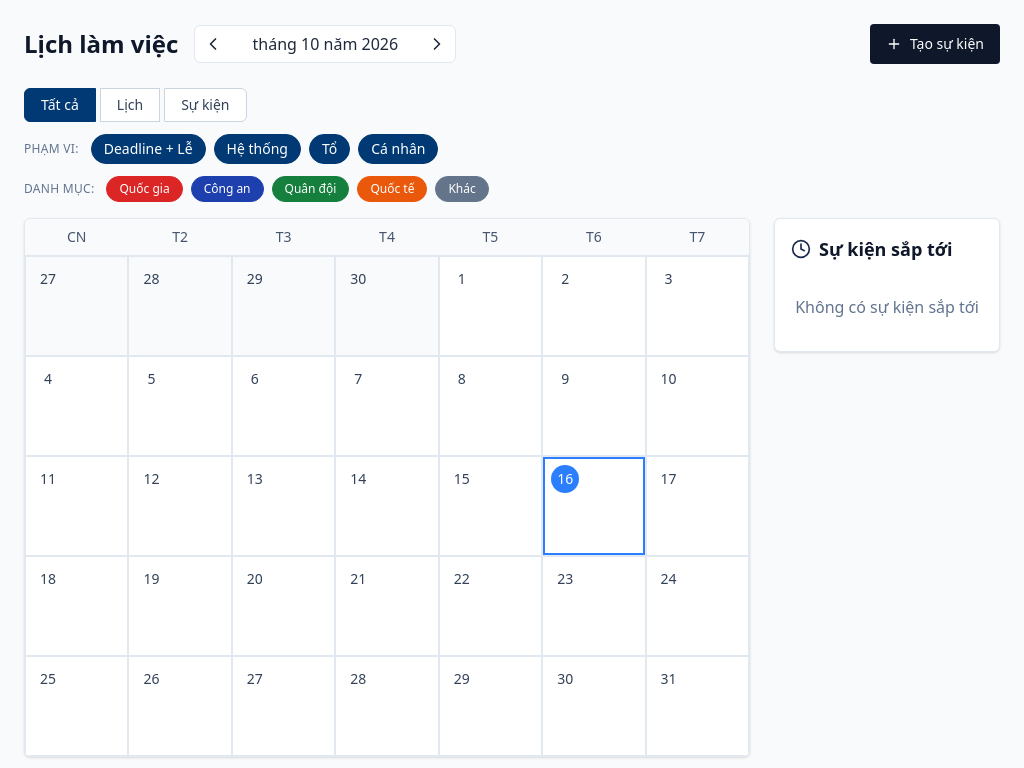
Scenario: CalendarPage › should open API-backed create modal when clicking add event button
This screenshot has width=1024, height=768.
Click the button with test id "create-event-api-btn": (935, 44) [870, 24, 1000, 64]
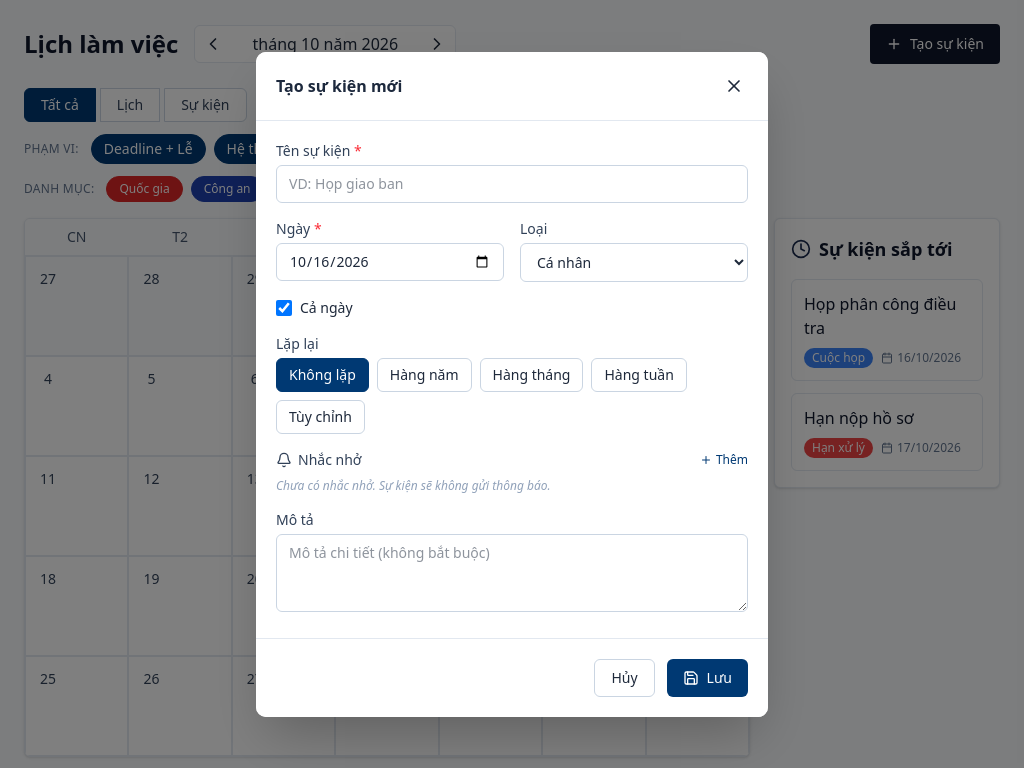
Now the heading "Tạo sự kiện mới" is shown, box [276, 74, 402, 98]
Now the button with test id "create-event-save" is shown, box [667, 658, 748, 696]
